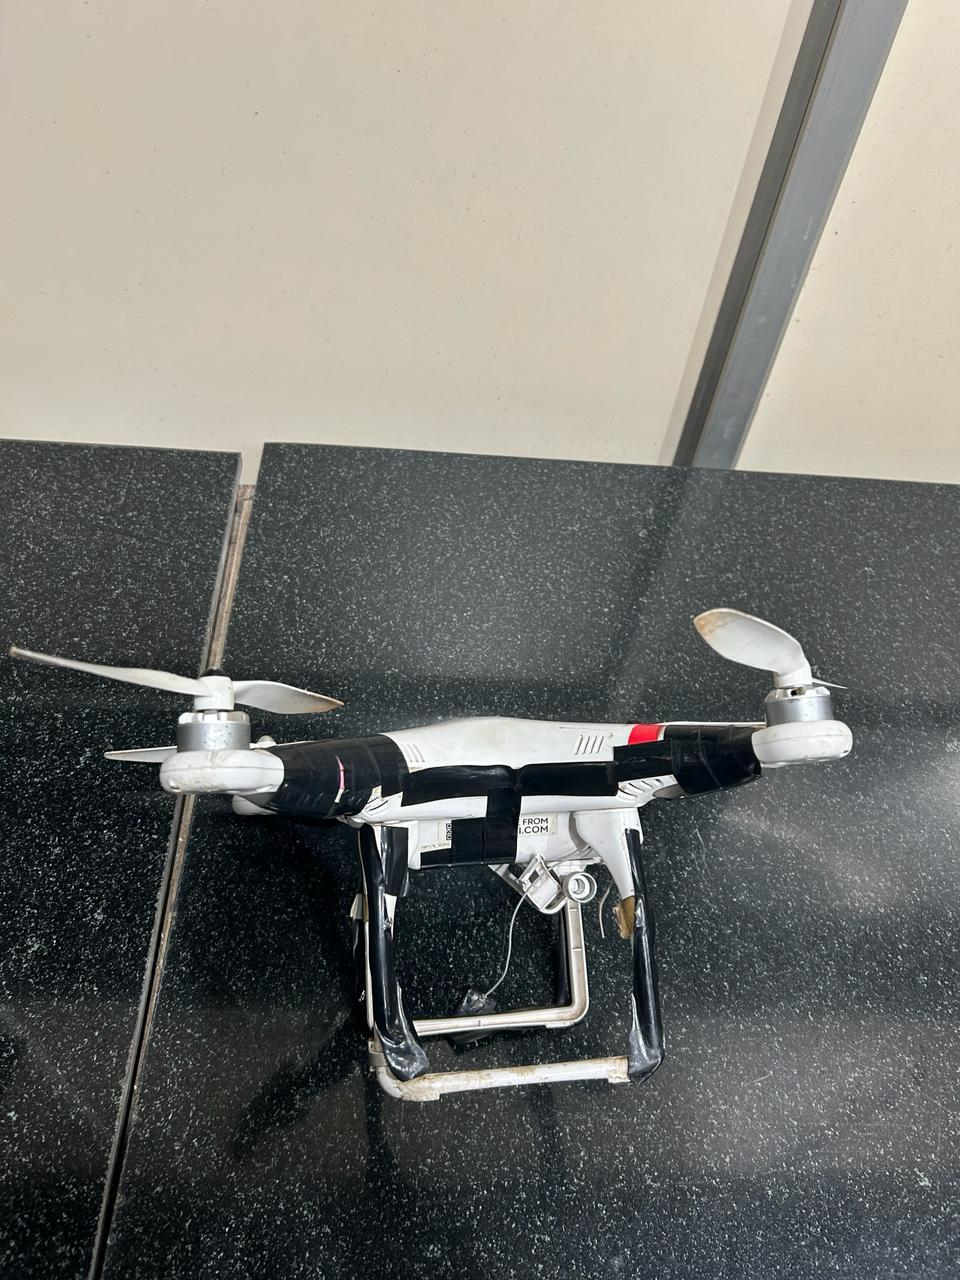drone: (7, 581, 919, 1143)
